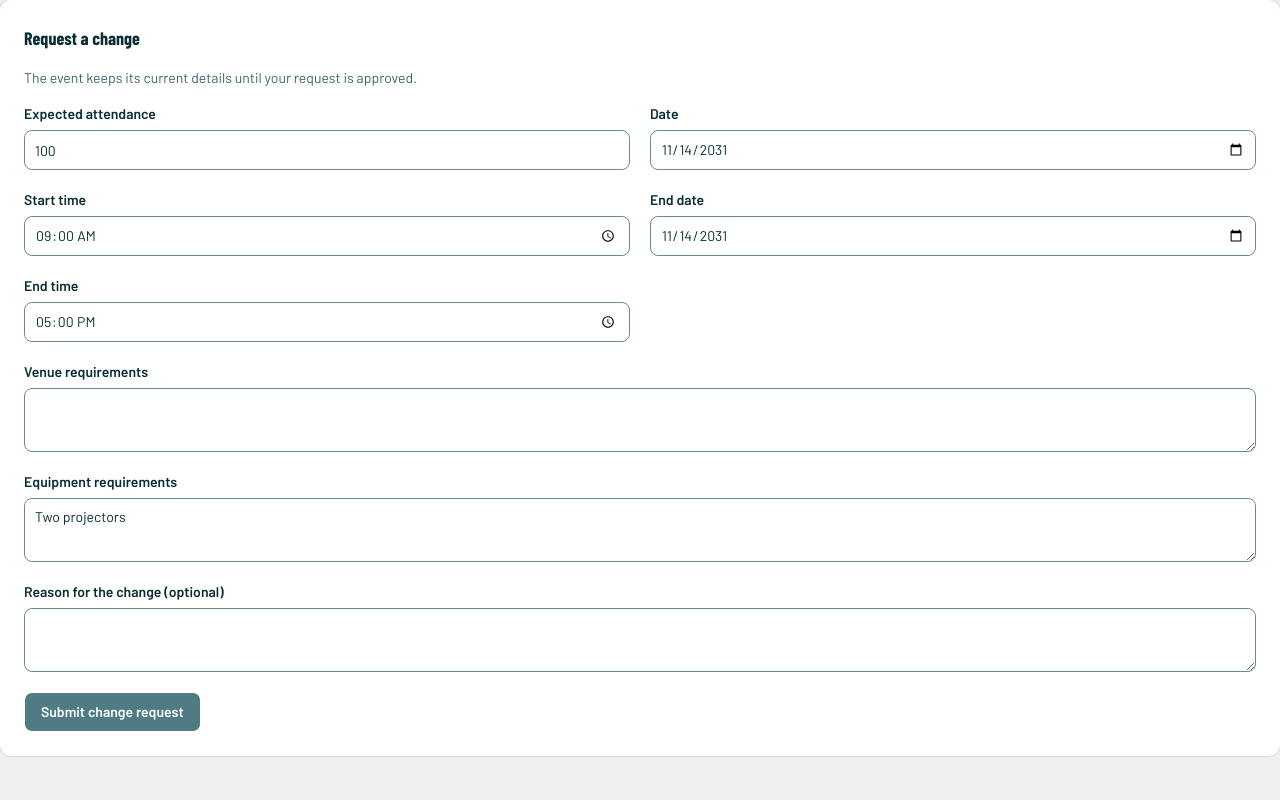
Test: SCRUM-66/AC5 expected attendance must be a positive whole number › refuses -4 without submitting
Replace the text in the field labelled "Expected attendance" with "-4" at [327, 150], box [24,130,630,170]
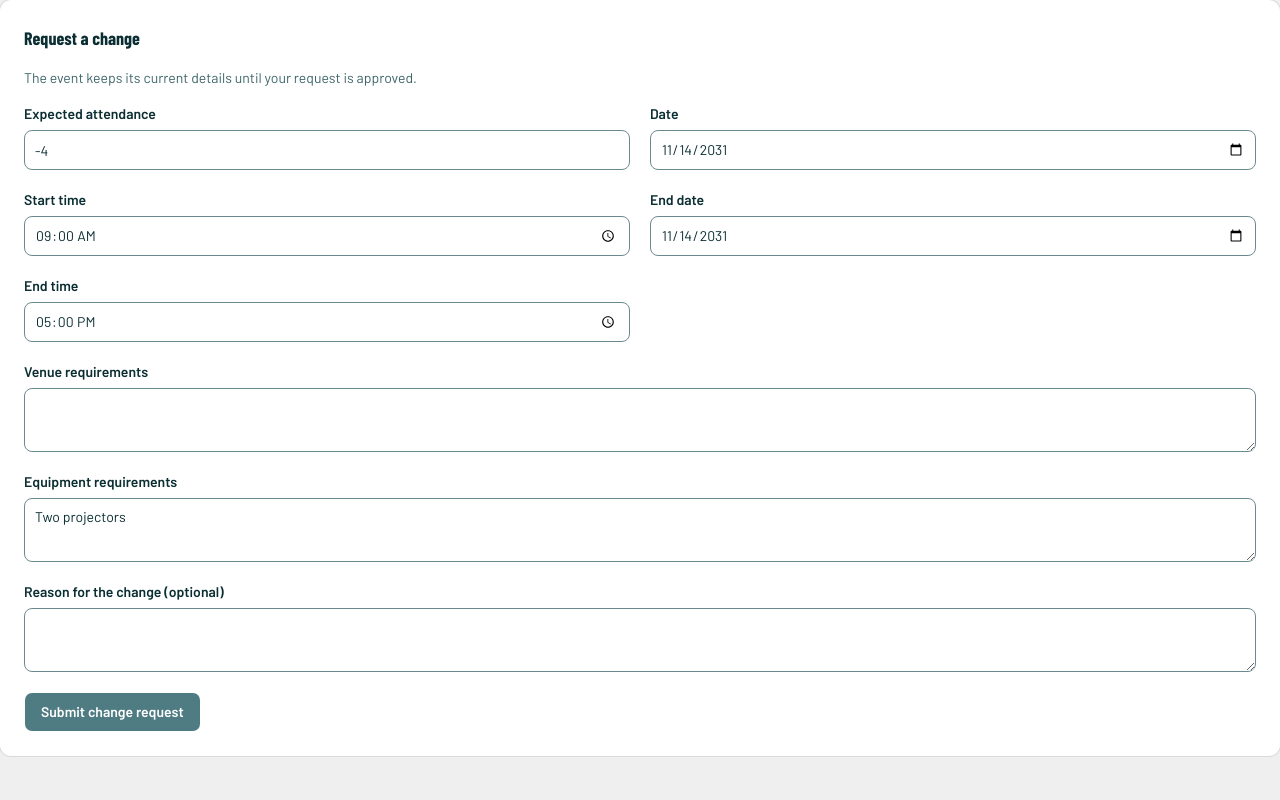
Click the button "Submit change request" at [112, 712], box [24,692,201,732]
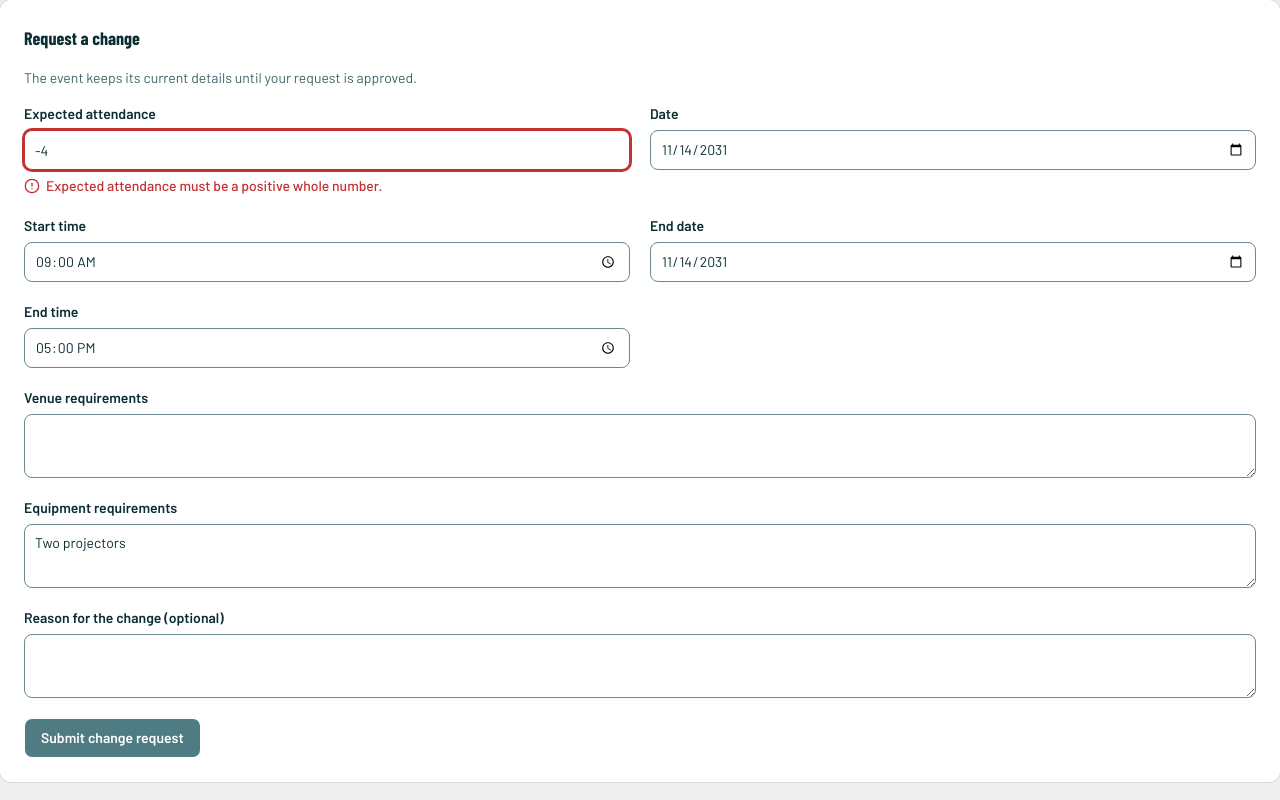
Result: the text "Expected attendance must be a positive whole number." is shown at [24,177,382,194]
